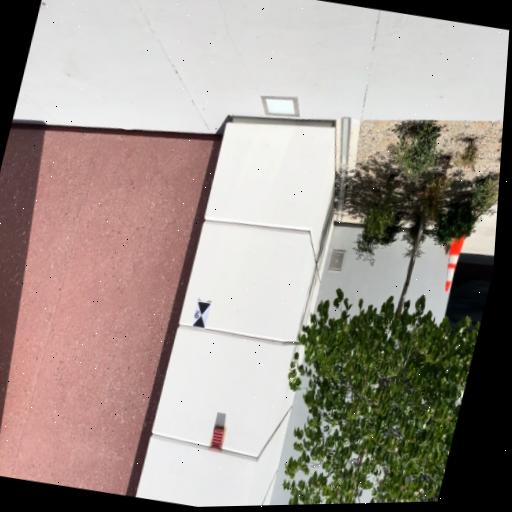target9: (191, 299, 212, 329)
